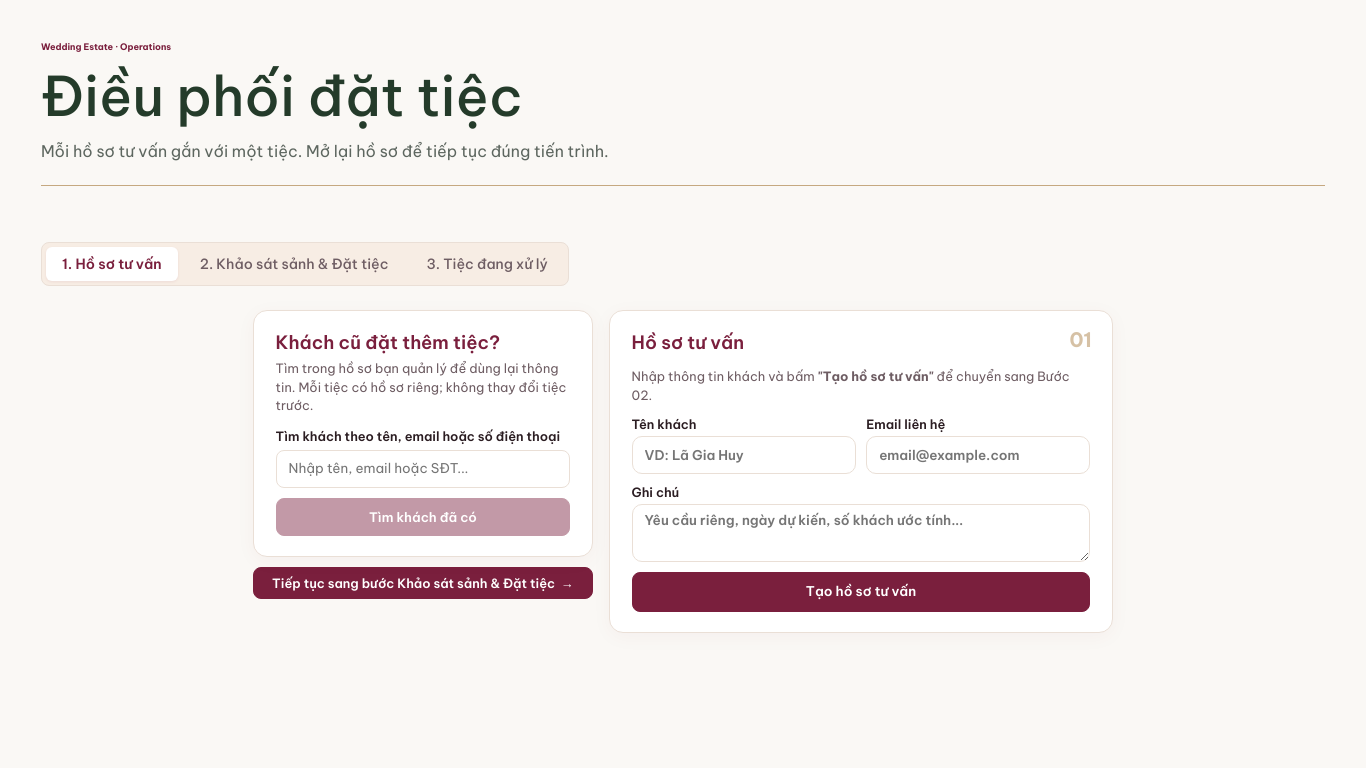
Scenario: resume consultation by server state › reuses only a selected contact and resets the previous party identity
This screenshot has width=1366, height=768.
Type "Lan" into the field labelled "Tìm khách theo tên, email hoặc số điện thoại" at coordinates (423, 469), box [276, 450, 570, 488]
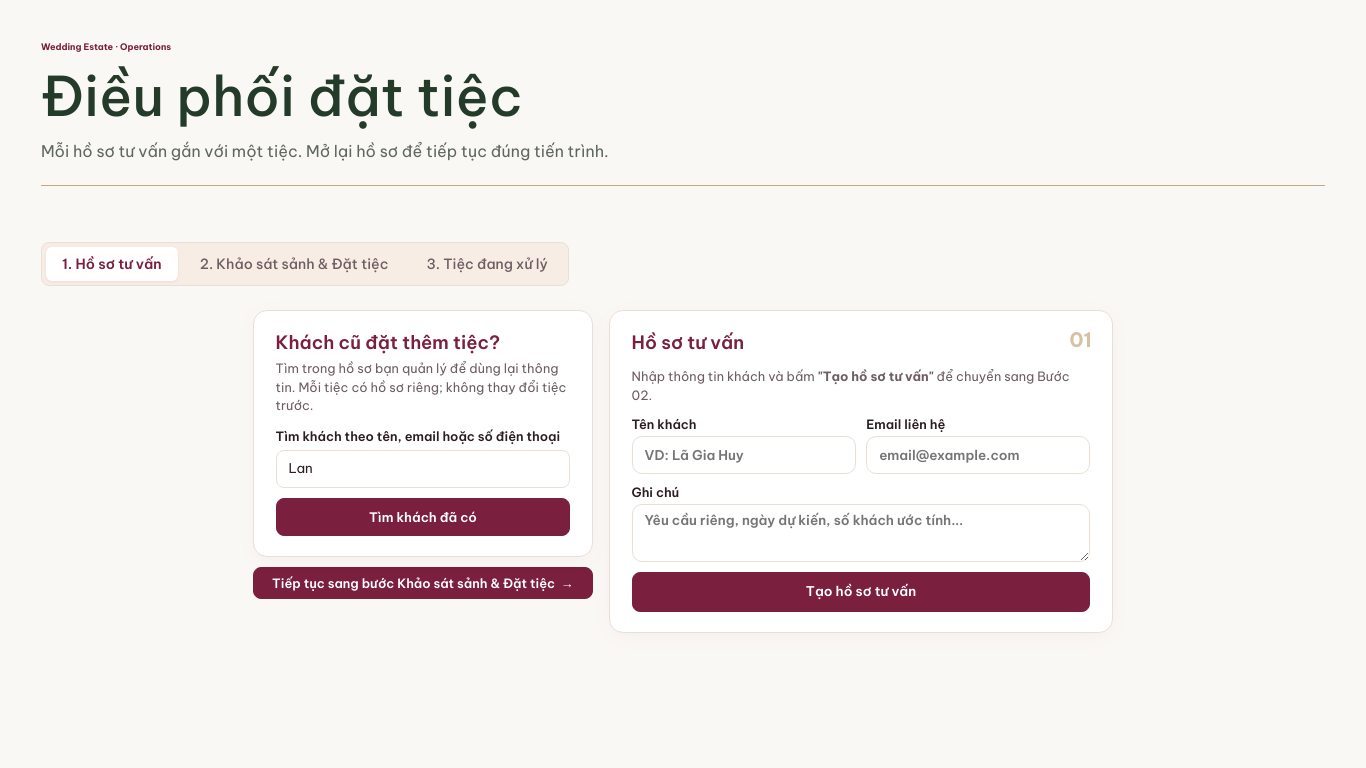
Click the button "Tìm khách đã có" at coordinates (423, 517), box [276, 498, 570, 536]
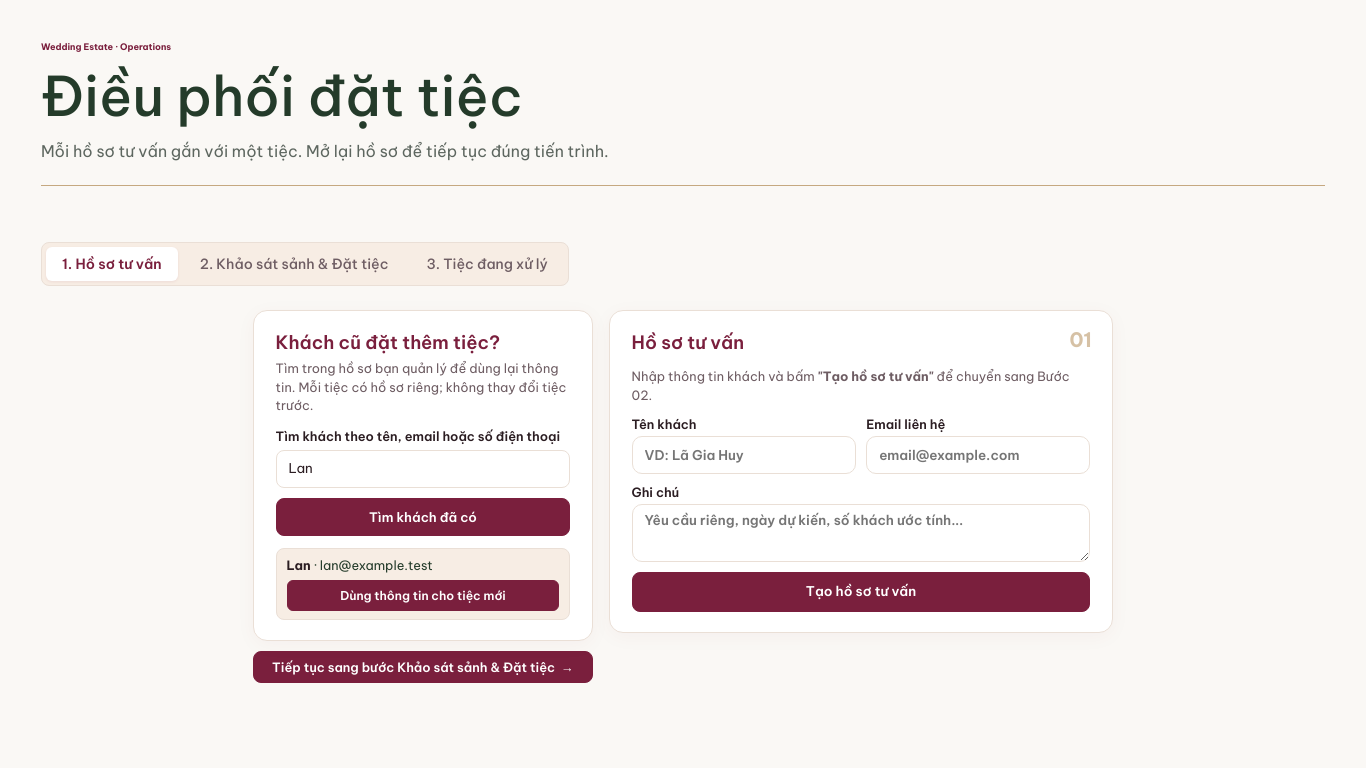
Click the button "Dùng thông tin cho tiệc mới" at coordinates (423, 596), box [287, 580, 559, 611]
(page scrolled)
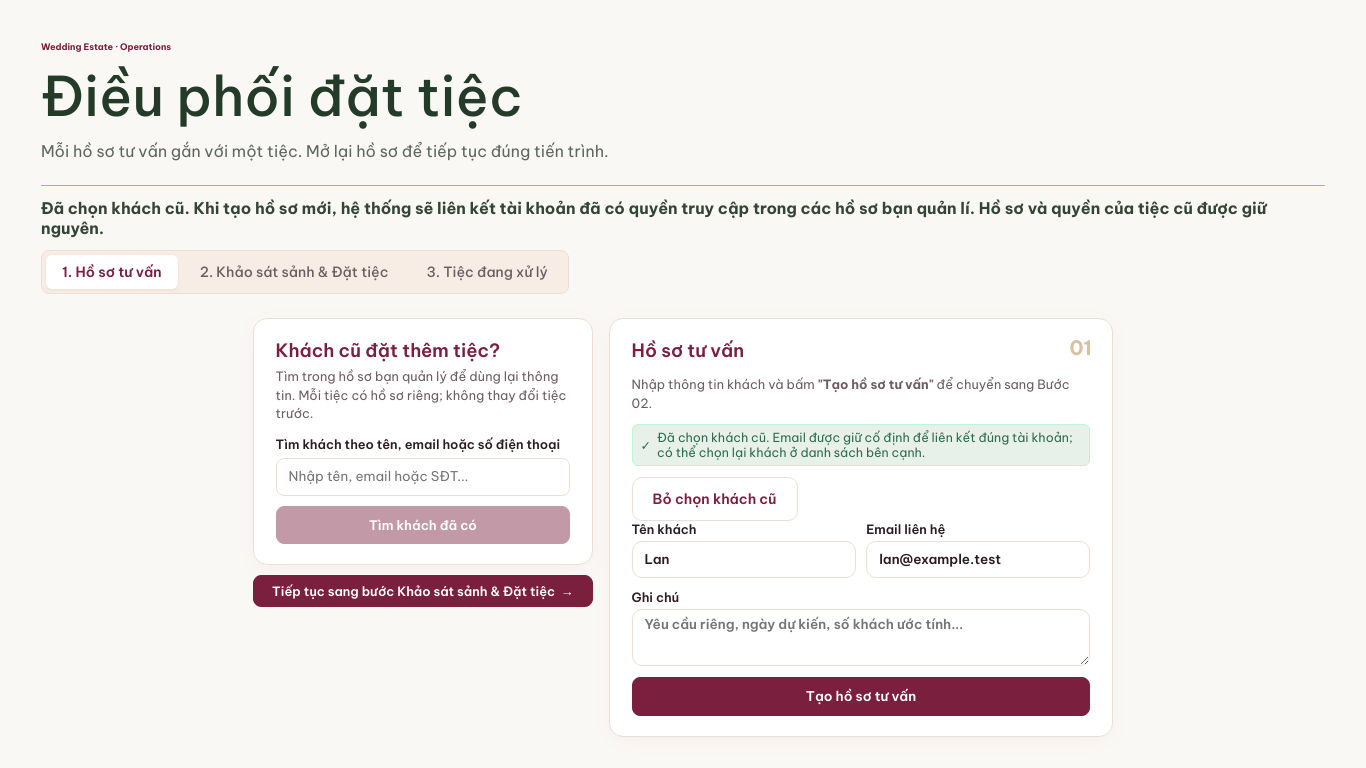
Check: the field labelled "Tên khách" holds "Lan", box [632, 541, 856, 578]
Check: the field labelled "Email liên hệ" holds "lan@example.test", box [866, 541, 1090, 578]
